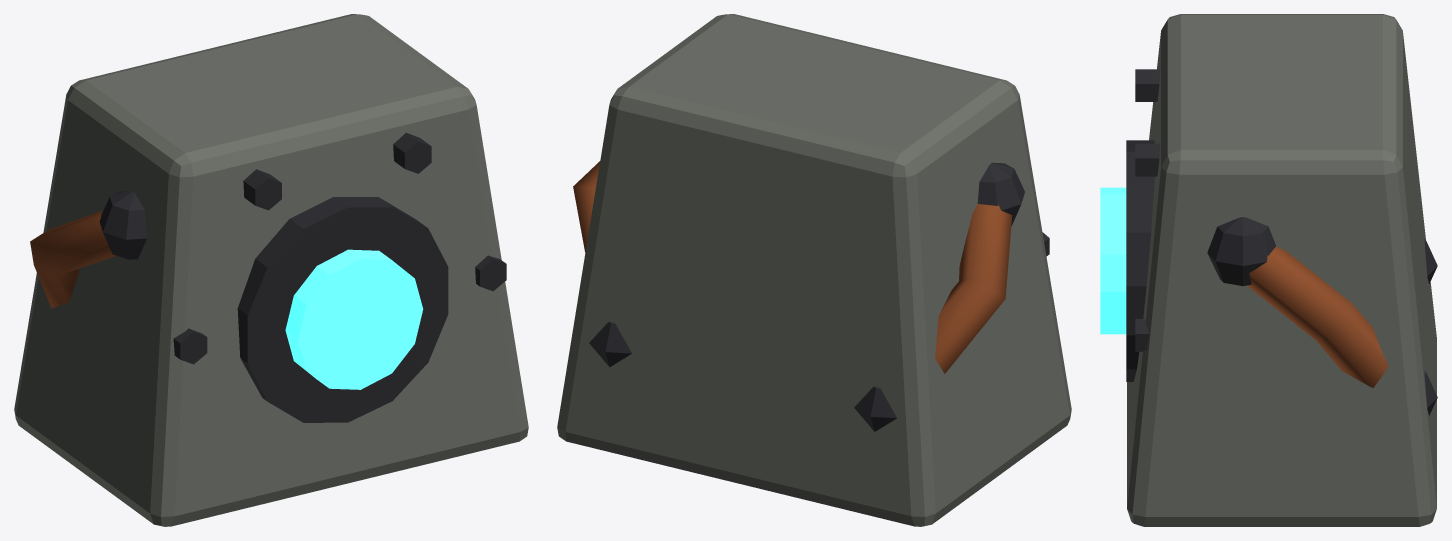
Rendered from co_tesla.glb.
The picture shows the model from 3 angles, left to right: view 1: azimuth 30°, elevation 25°; view 2: azimuth 150°, elevation 25°; view 3: azimuth 270°, elevation 25°; orthographic projection.
Visible parts, largest first — view 1: co_tesla; view 2: co_tesla; view 3: co_tesla.
Boxes of the visible parts, x1,y1,x2,y2 form: co_tesla: [14, 14, 528, 526]; co_tesla: [557, 14, 1071, 526]; co_tesla: [1100, 14, 1437, 526].
Bounding box in the file's own units: 0.167 × 0.1335 × 0.1118.
